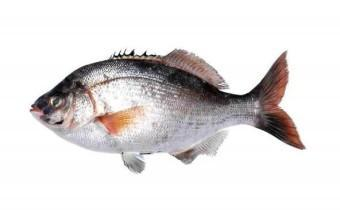fish: (29, 47, 307, 174)
